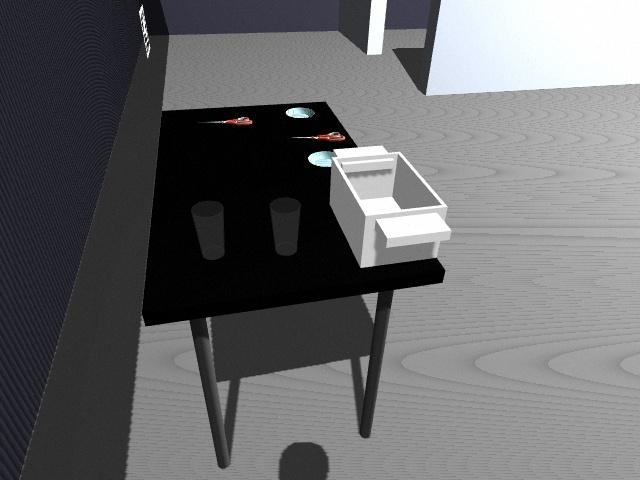cup: (191, 200, 226, 259), (269, 197, 301, 256)
plate: (307, 150, 336, 168), (285, 106, 316, 119)
scissors: (290, 132, 345, 142), (199, 117, 253, 126)
